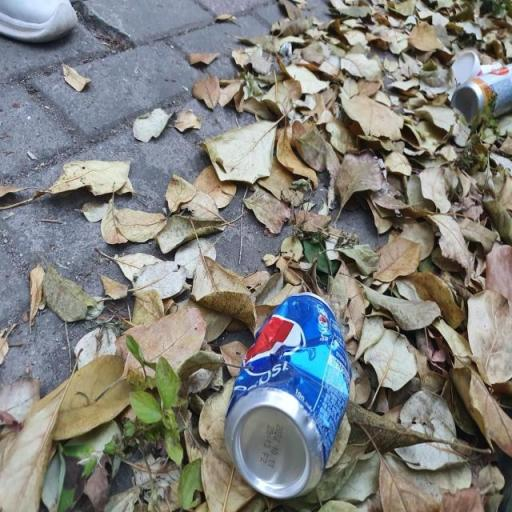metal: (206, 282, 374, 512)
